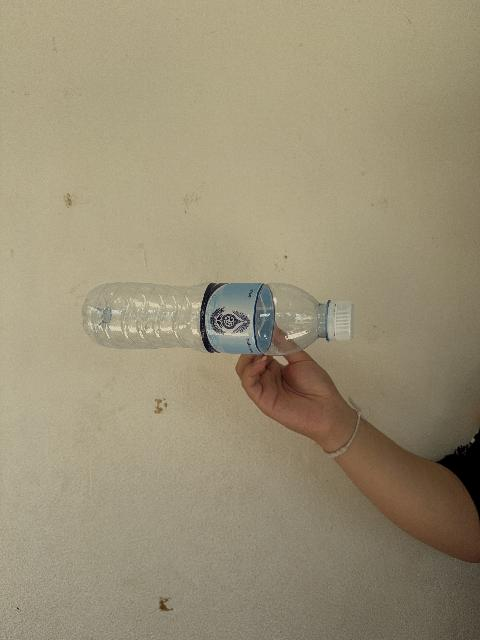bottle: (82, 283, 353, 355)
